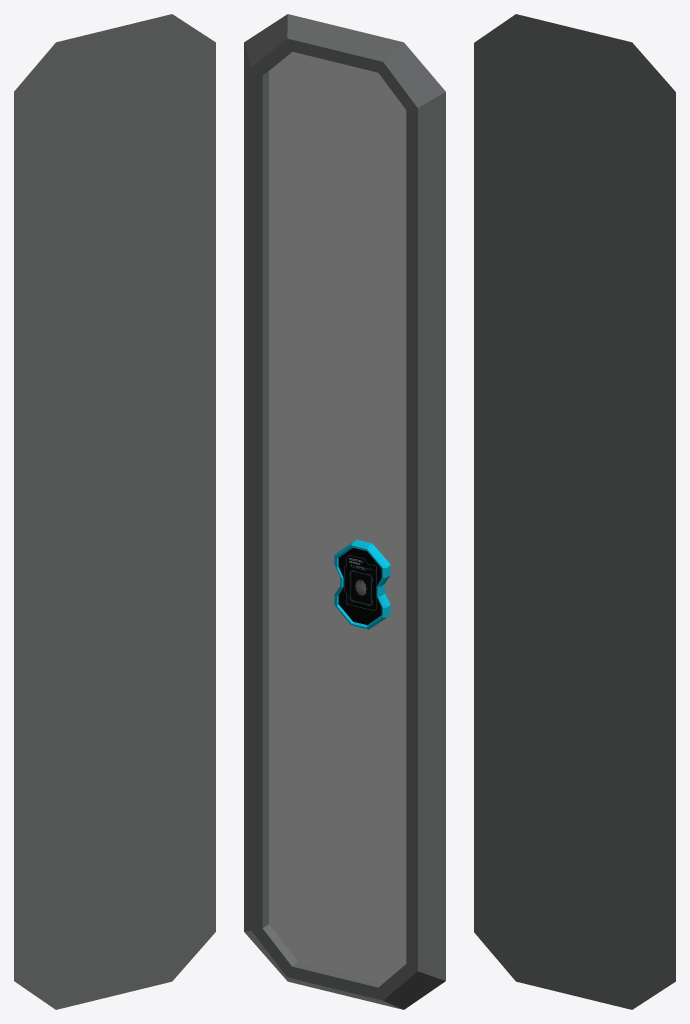
The model's file is locker door.fbx.
3 renders of one model, left to right at view 1: azimuth 30°, elevation 25°; view 2: azimuth 150°, elevation 25°; view 3: azimuth 330°, elevation 25°, orthographic.
Visible parts, largest first — view 1: locker door.001; view 2: locker door.001, Cube.008, Cube.004; view 3: locker door.001.
Boxes of the visible parts, x1=… form: locker door.001: x1=14, y1=14, x2=215, y2=1009; locker door.001: x1=244, y1=14, x2=445, y2=1009; Cube.008: x1=338, y1=548, x2=381, y2=624; Cube.004: x1=334, y1=540, x2=390, y2=629; locker door.001: x1=474, y1=14, x2=675, y2=1009.
Size of the model in its own units: 134 by 614 by 13.78.
4 materials, 1 textured.
